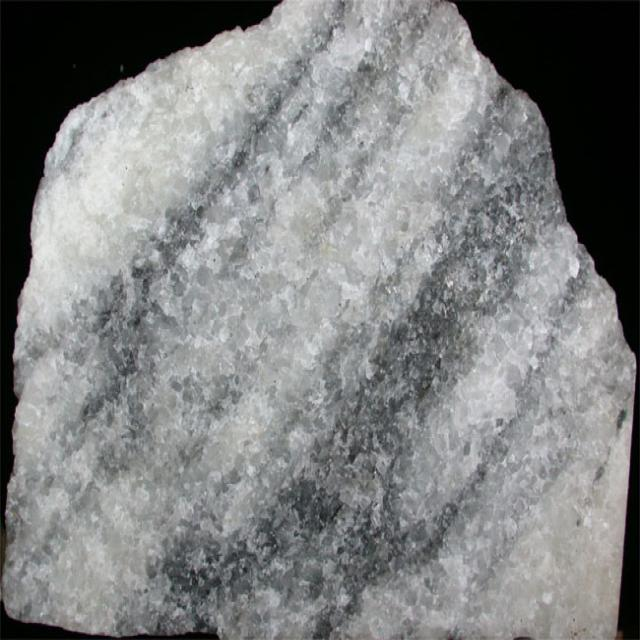Metamorphic: (18, 8, 628, 640)
